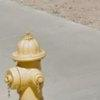Hydrant: (7, 28, 43, 100)
